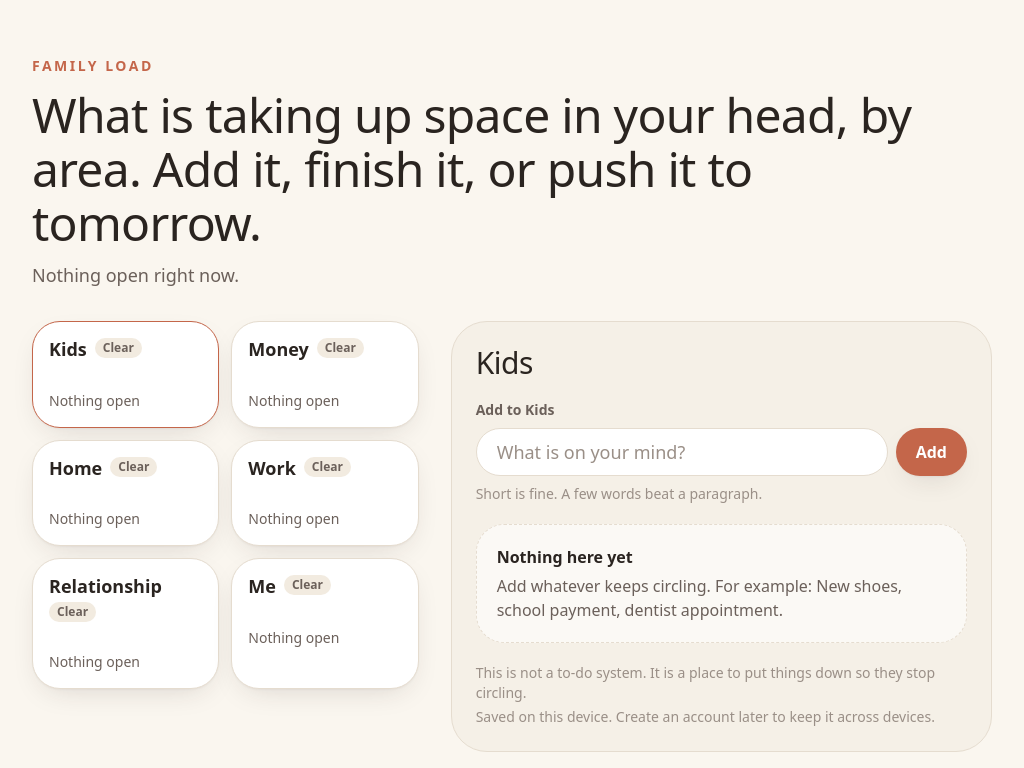
Test: Family Load › rejects an empty title with a translated error
Expected: the text "Nothing here yet" is shown, [497,546,633,568]
Click the button "Add" at (931, 452), box [896,428,967,476]
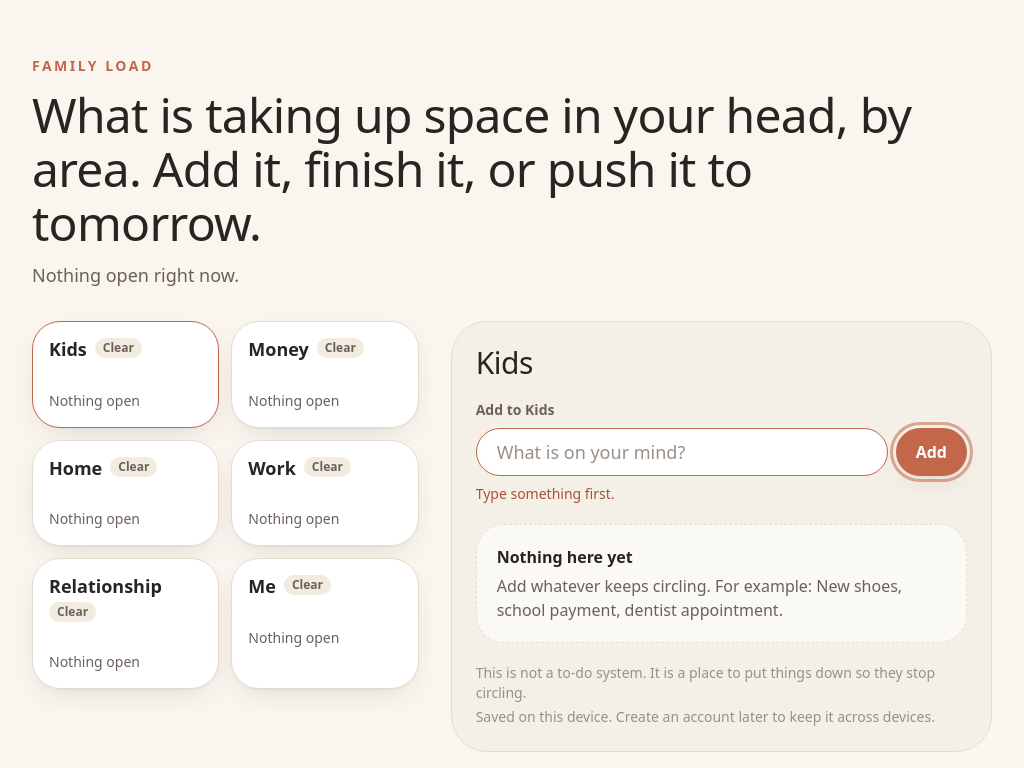
Now the message reads "Type something first.", box [476,484,615,503]
